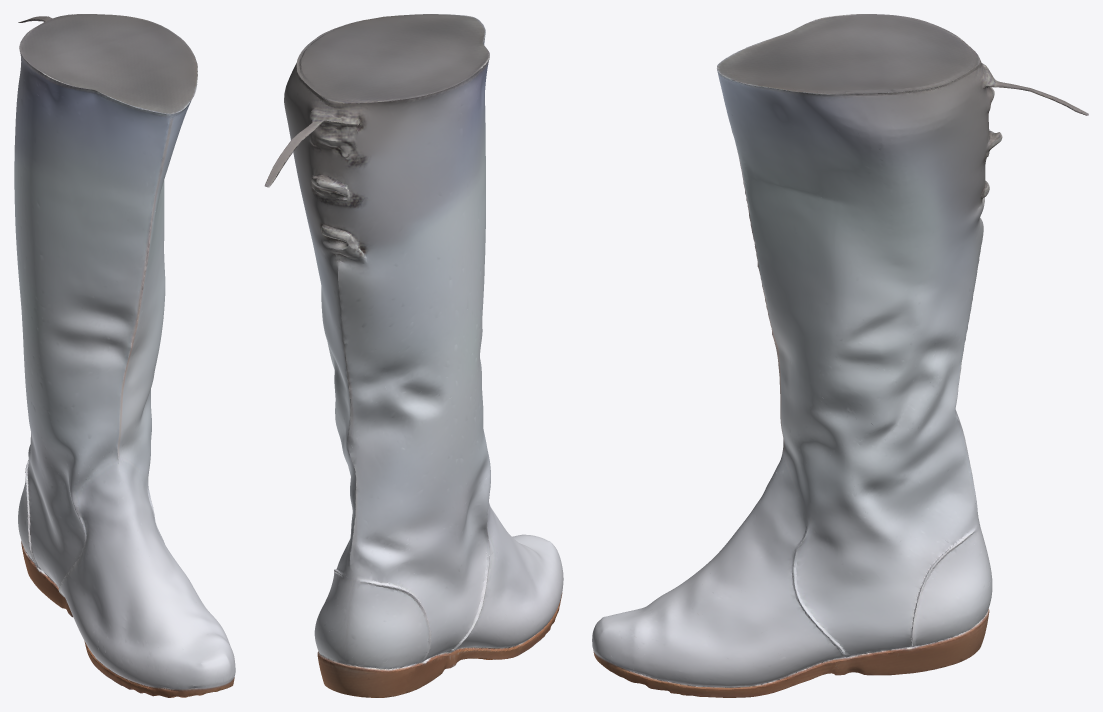
3 views of the same model, side by side, from view 1: azimuth 30°, elevation 25°; view 2: azimuth 150°, elevation 25°; view 3: azimuth 270°, elevation 25° (orthographic). The views are drawn at different scales.
Parts seen in each view (by area): view 1: model; view 2: model; view 3: model.
Part boxes in pixels (x1,y1,x2,y2): model: (14, 14, 235, 697); model: (264, 14, 563, 697); model: (592, 14, 1088, 697).
Size of the model in its own units: 0.0998 by 0.35 by 0.2512.
Materials: 1 (1 with a texture image).
